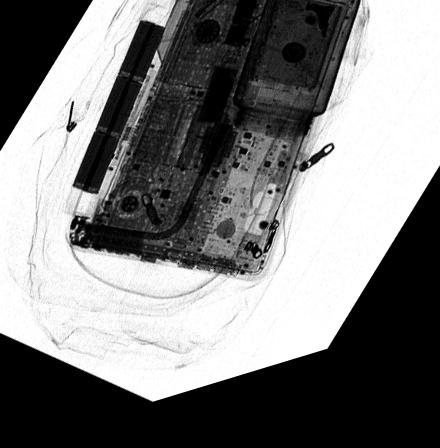Baton: (175, 0, 268, 185)
